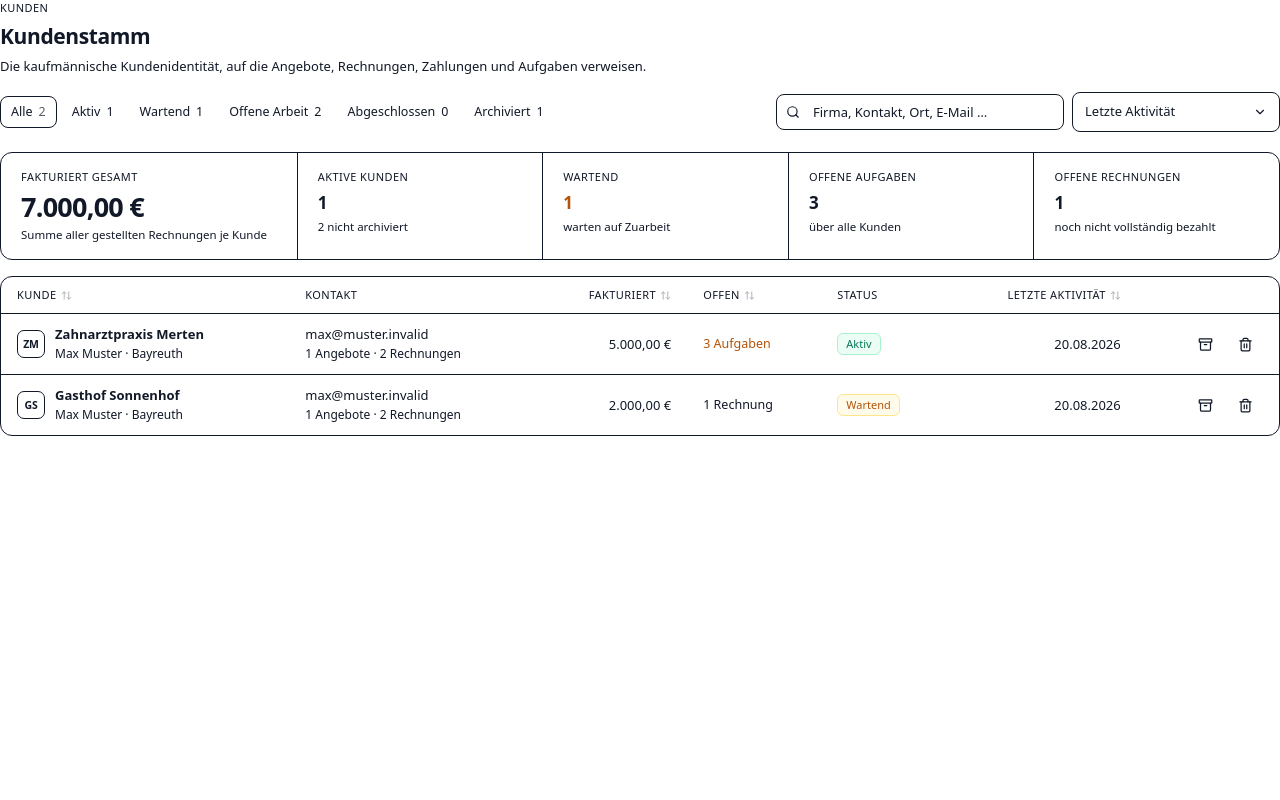
Test: customer workspace › keeps the archive action reversible and says so before doing it
Later steps or results of the test are not shown.
Expected: the table is shown, [1,277,1279,435]
Click the button named "Gasthof Sonnenhof archivieren" at (1205, 405), box [1187,387,1223,423]
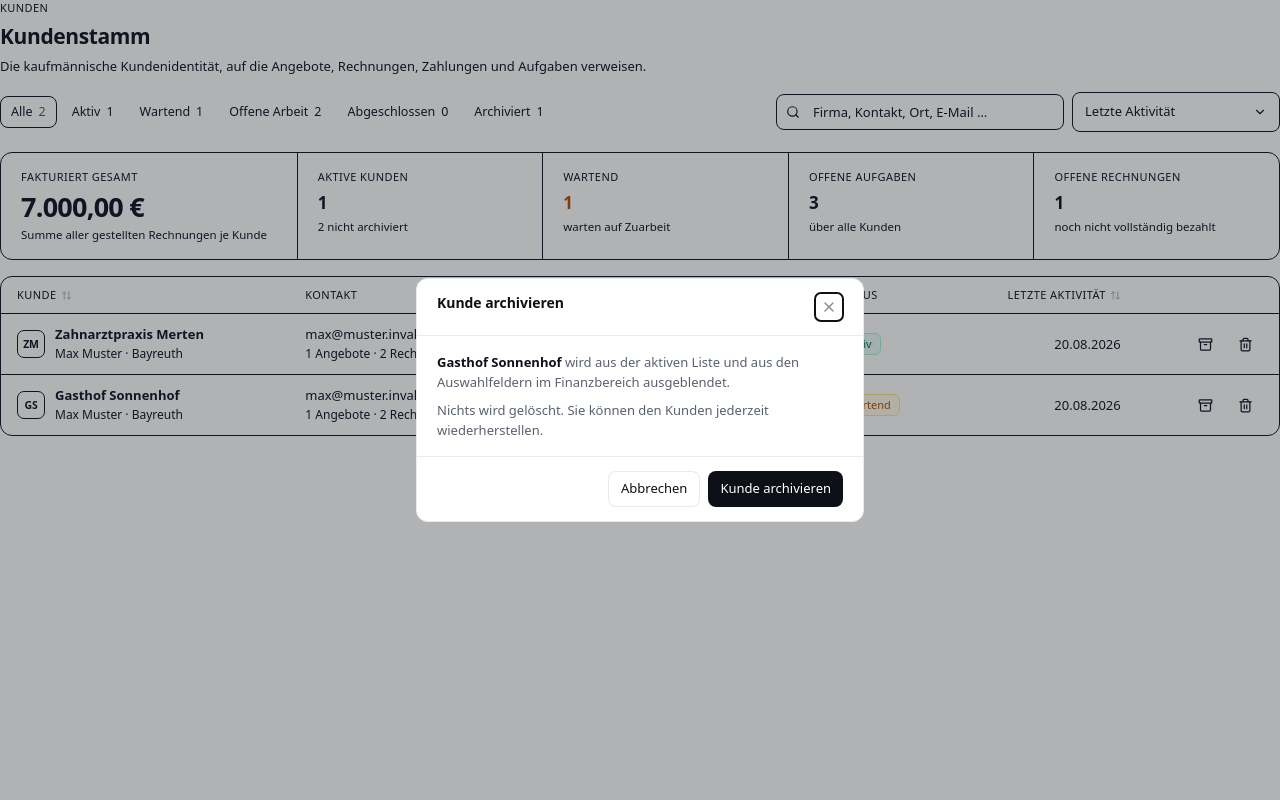
Expected: the dialog shows "Nichts wird gelöscht", [437,401,769,439]
